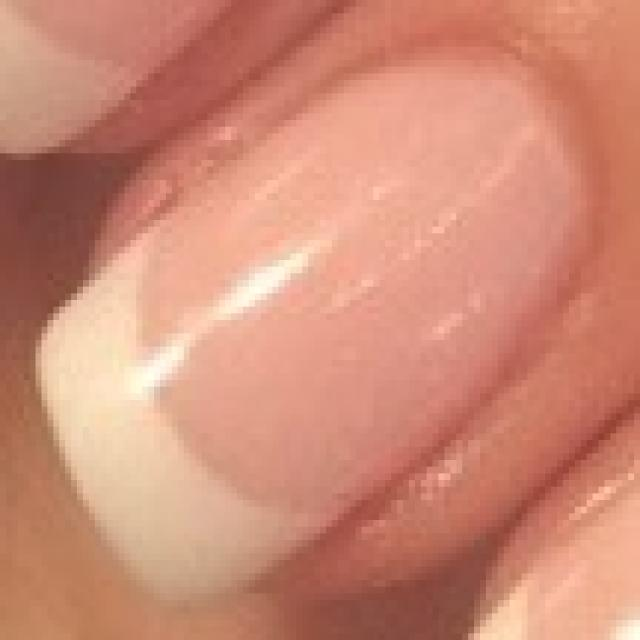Nail: (35, 35, 595, 602)
